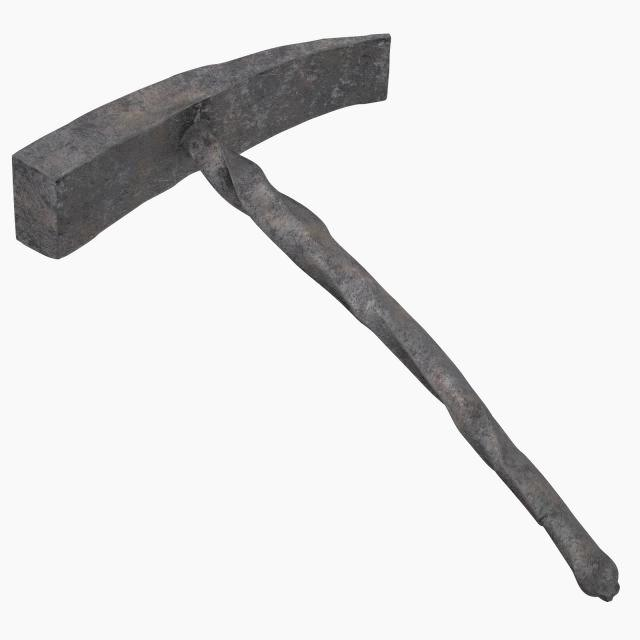hammer: (5, 28, 626, 607)
